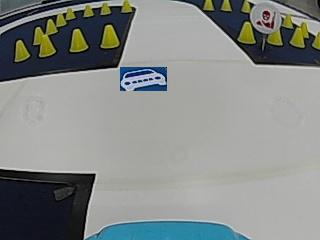evil: (251, 3, 281, 33)
